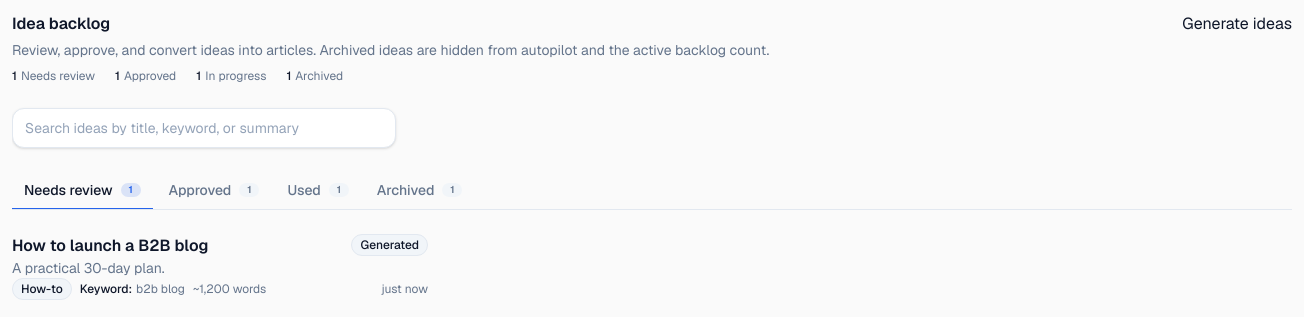
it: IdeasList › renders archived ideas only in the Archived tab by default
Check: the text "Archived placeholder" is not shown
Click the tab "Archived 1". click: (420, 191)
box: [365, 172, 474, 210]
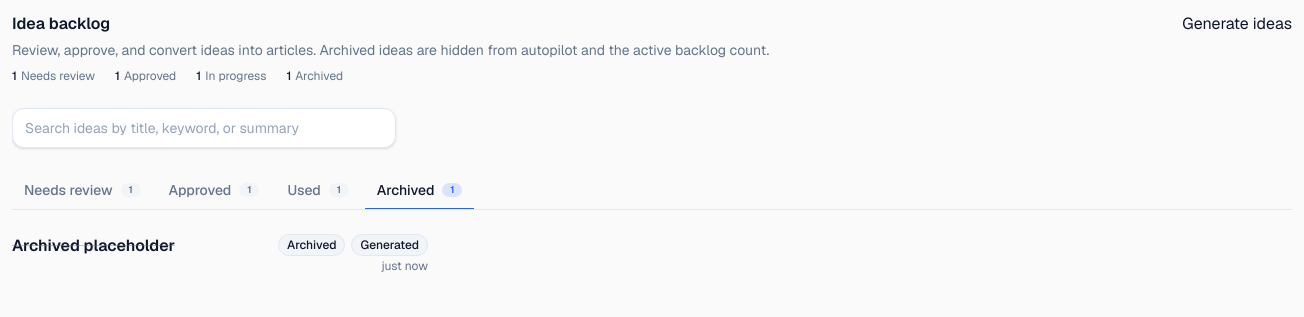
Check: the heading "Archived placeholder" is shown, box [12, 234, 175, 258]
